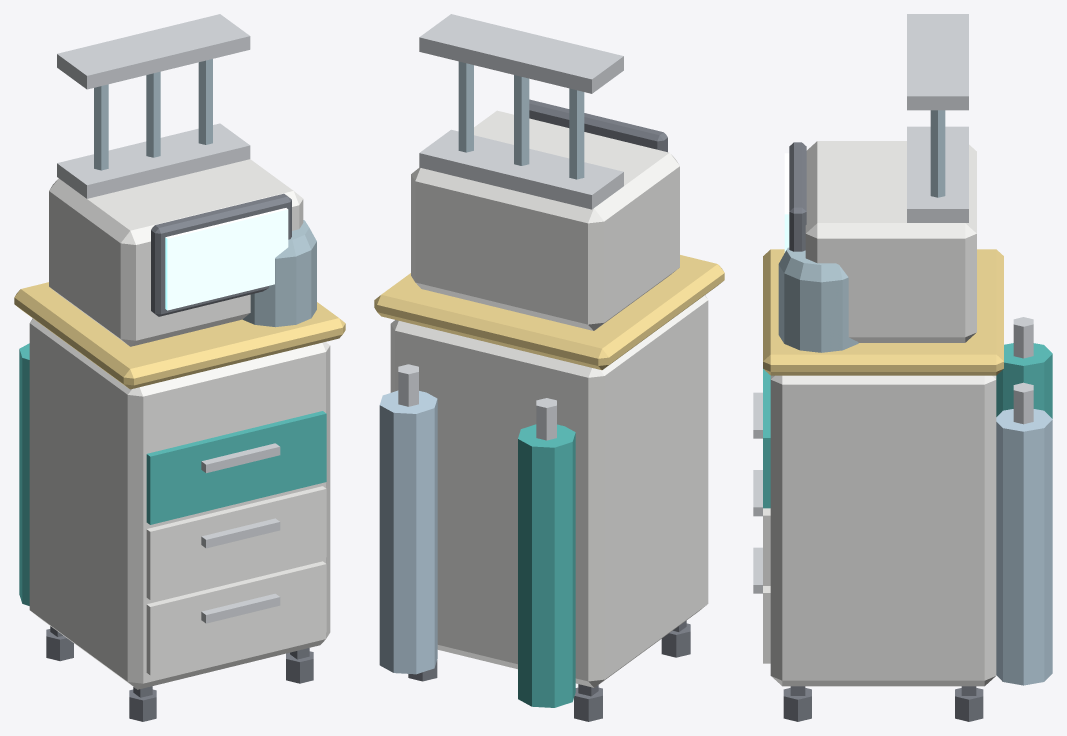
The model's file is medical-23612.glb.
3 renders of one model, left to right at view 1: azimuth 30°, elevation 25°; view 2: azimuth 150°, elevation 25°; view 3: azimuth 270°, elevation 25°, orthographic. The views are drawn at different scales.
Visible parts, largest first — view 1: anaesthesia-machine; view 2: anaesthesia-machine; view 3: anaesthesia-machine.
Part boxes in pixels (x1,y1,x2,y2): anaesthesia-machine: (14, 14, 345, 721); anaesthesia-machine: (374, 14, 724, 721); anaesthesia-machine: (753, 14, 1052, 721).
Size of the model in its own units: 0.68 by 1.76 by 0.77.
